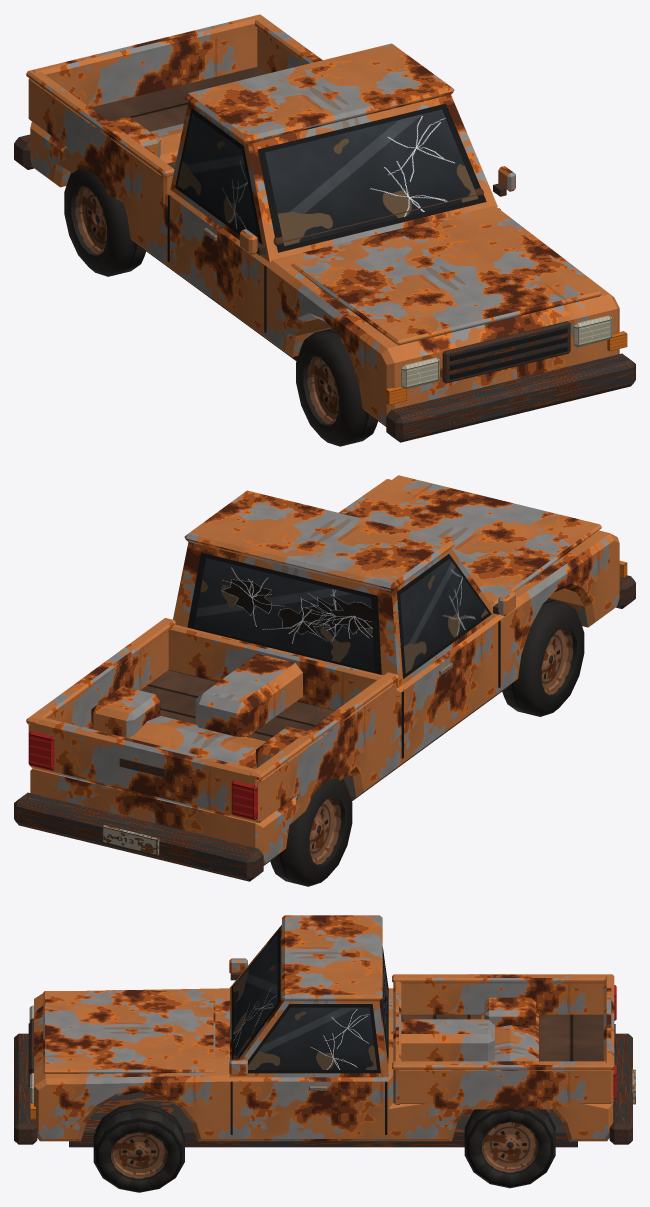
The model's file is Car_Pickup.fbx.
3 views of the same model, one above another, from view 1: azimuth 30°, elevation 25°; view 2: azimuth 150°, elevation 25°; view 3: azimuth 270°, elevation 25° (orthographic). The views are drawn at different scales.
Visible parts, largest first — view 1: Car_Pickup_Body, Car_Pickup_Wheel_FL, Car_Pickup_Wheel_RL; view 2: Car_Pickup_Body, Car_Pickup_Wheel_FL, Car_Pickup_Wheel_RL; view 3: Car_Pickup_Body, Car_Pickup_Wheel_FR, Car_Pickup_Wheel_RR.
Boxes of the visible parts, x1,y1,x2,y2 form: Car_Pickup_Body: [14, 14, 635, 442]; Car_Pickup_Wheel_FL: [296, 328, 377, 446]; Car_Pickup_Wheel_RL: [64, 168, 145, 276]; Car_Pickup_Body: [14, 475, 635, 881]; Car_Pickup_Wheel_FL: [502, 598, 584, 716]; Car_Pickup_Wheel_RL: [270, 778, 352, 886]; Car_Pickup_Body: [14, 915, 635, 1147]; Car_Pickup_Wheel_FR: [93, 1103, 184, 1192]; Car_Pickup_Wheel_RR: [464, 1108, 555, 1188].
Size of the model in its own units: 2.11 by 1.85 by 5.32.
Materials: 2 (2 with a texture image).
